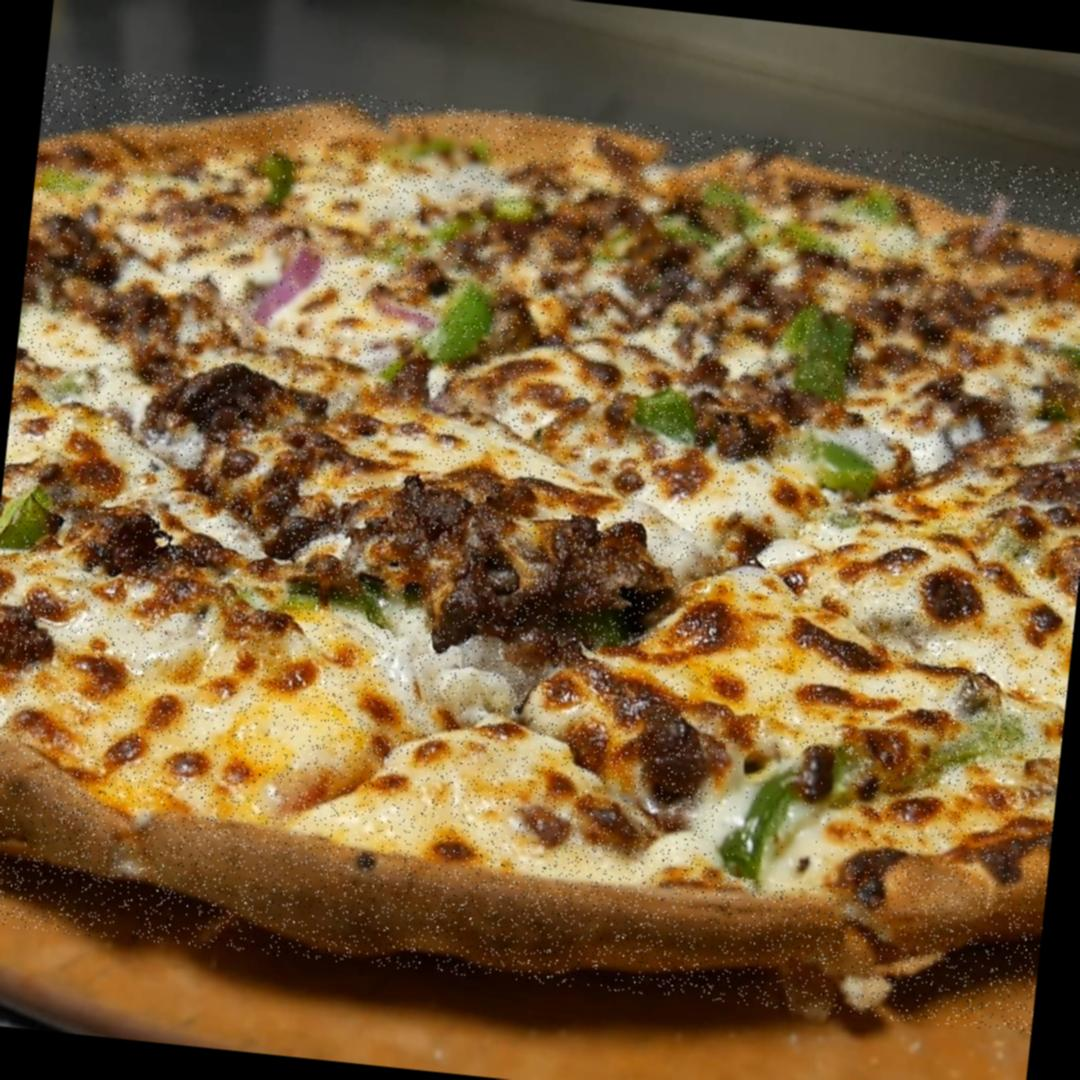Onion: (252, 246, 318, 332), (370, 297, 432, 336)
Peppers: (713, 742, 856, 888), (700, 184, 848, 258), (419, 187, 540, 256), (782, 308, 856, 407), (602, 213, 728, 269), (426, 284, 498, 366), (634, 384, 704, 450), (804, 442, 880, 502), (386, 130, 488, 170), (0, 485, 57, 556), (247, 152, 296, 218)
Pizza: (0, 62, 1080, 1035)
